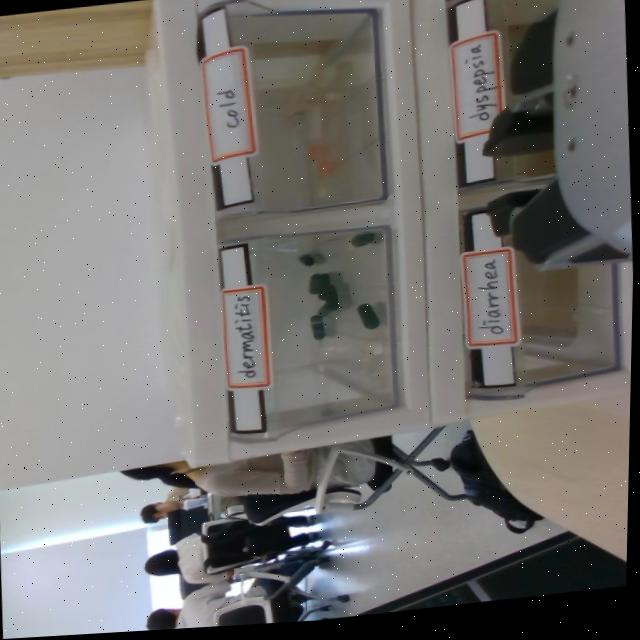text: (454, 35, 499, 127), (224, 292, 260, 384), (473, 252, 508, 338), (212, 77, 244, 132)
